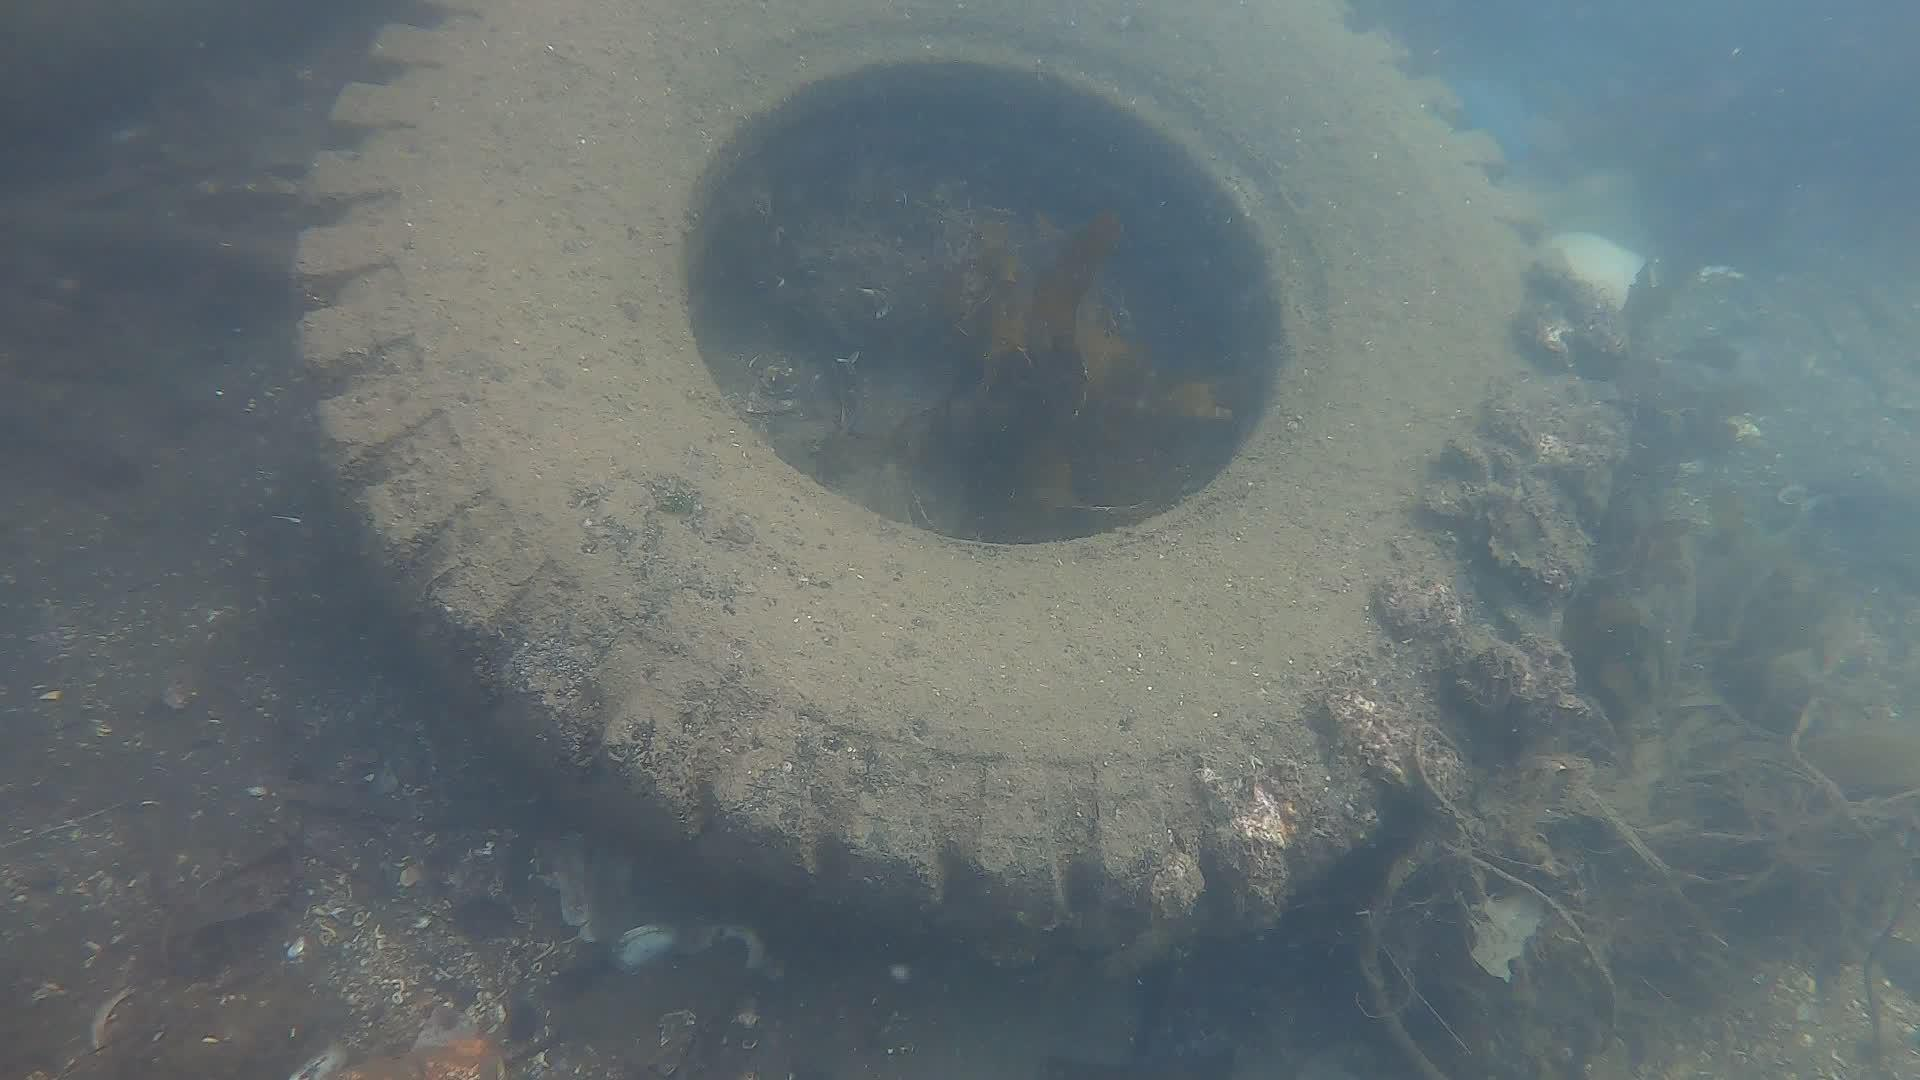tire: (290, 0, 1528, 968)
